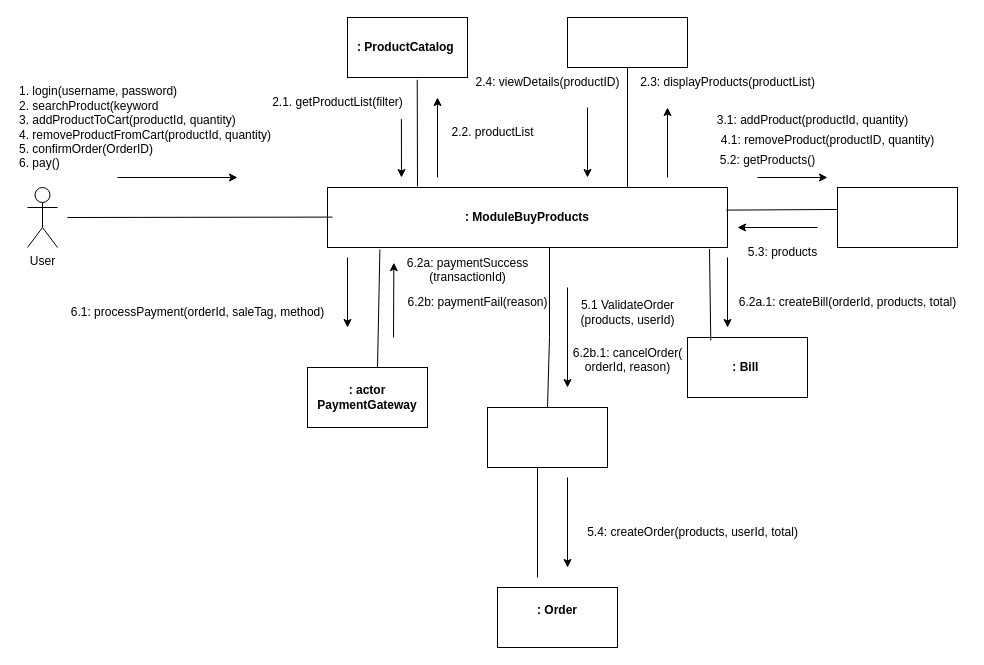
Some shapes in this 984 by 665 pixel diagram are drawn without their labels. Each missing label, with the box of its shape:
: OrderController <<controller>>: (486, 406, 608, 468)
: ProductPage: (566, 16, 688, 68)
: ShoppingCart: (836, 186, 958, 248)
